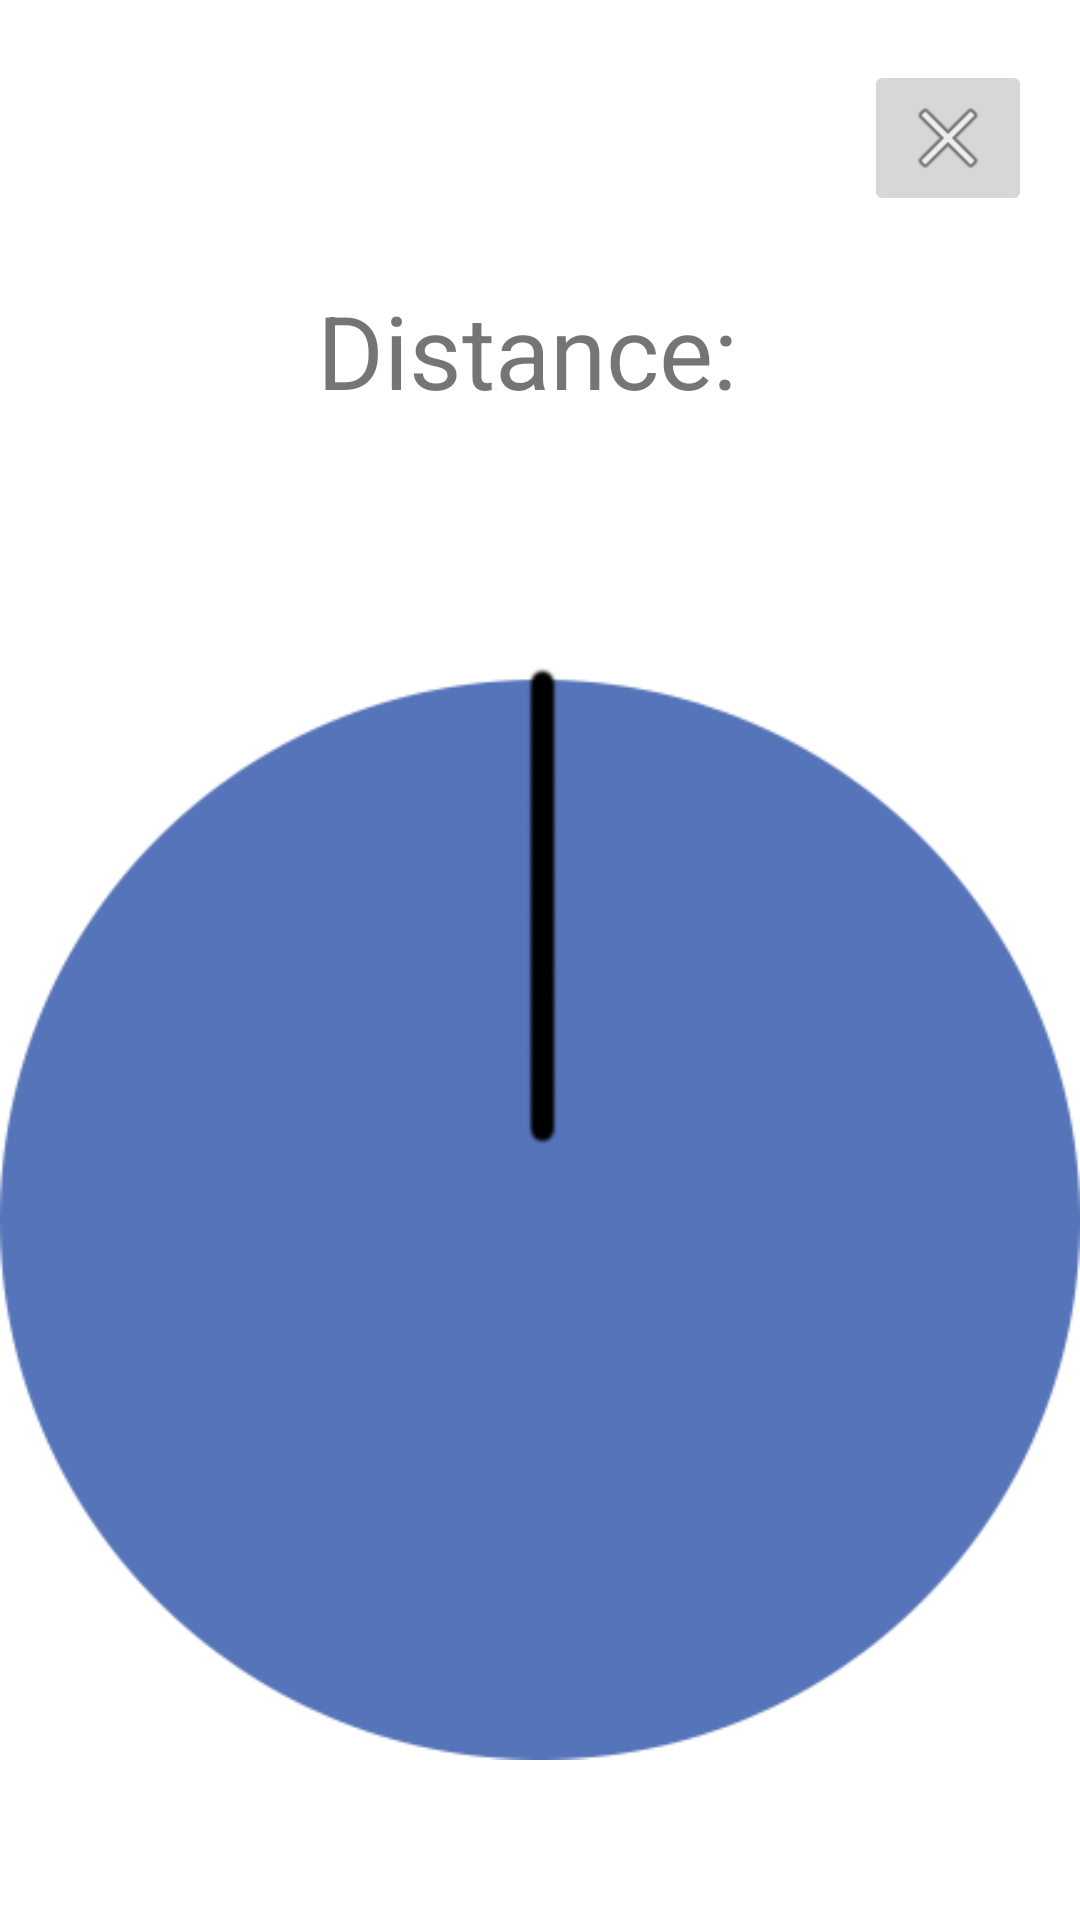

Named icons in this screenshot (1080w x 1920h) and their centers, [x,y]:
close clear cancel: [948,138]
